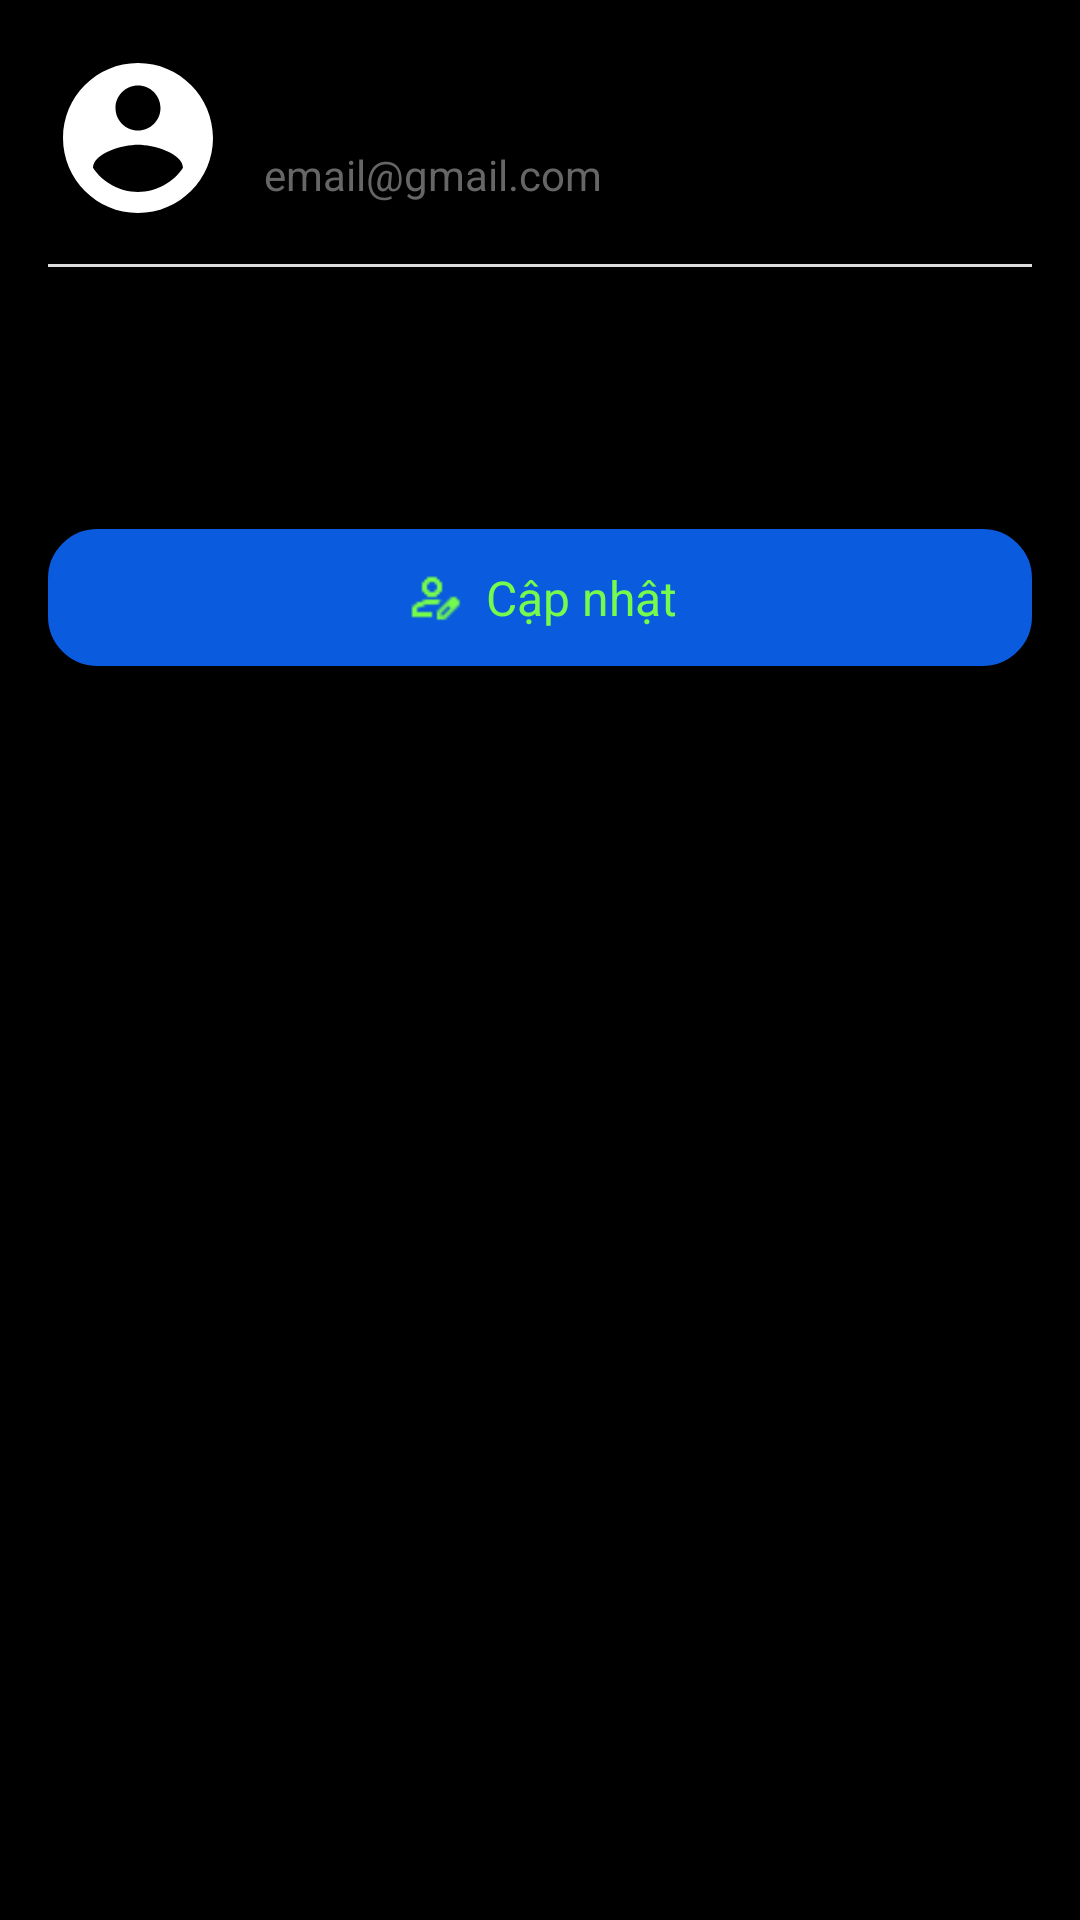

Icons on this 1080×1920 Android screen, each with its box as (x1, y1, x2, y2):
account circle: (63, 63, 213, 213)
Edit Icon: (411, 576, 460, 620)
